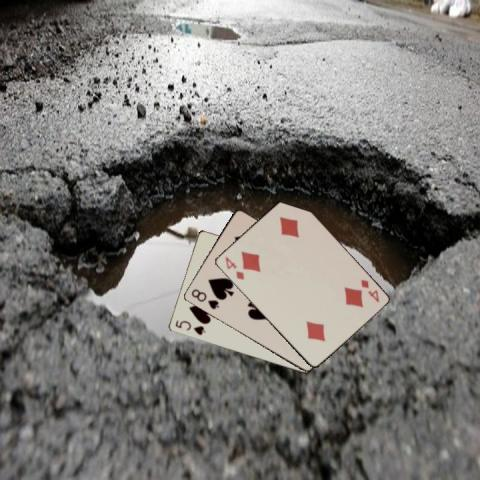4d: (357, 276, 381, 304), (222, 253, 245, 282)
5s: (172, 317, 207, 337)
8s: (188, 286, 221, 311)
